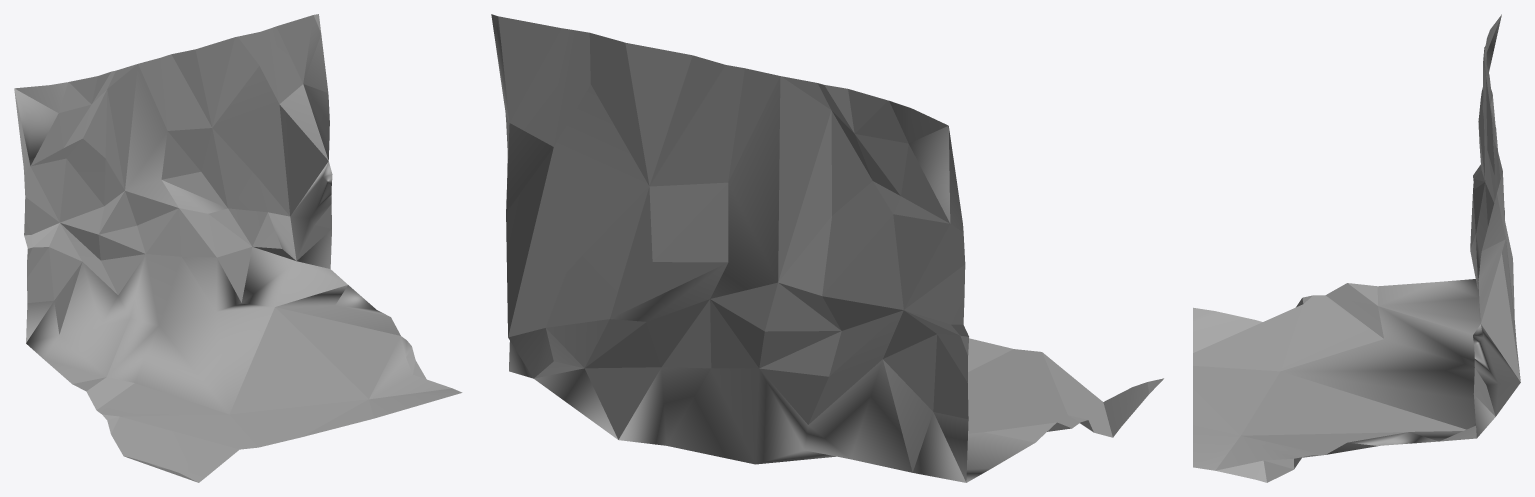
Rendered from WallFloor1.fbx.
3 views of the same model, side by side, from view 1: azimuth 30°, elevation 25°; view 2: azimuth 150°, elevation 25°; view 3: azimuth 270°, elevation 25° (orthographic). The views are drawn at different scales.
Parts seen in each view (by area): view 1: WallFloor1; view 2: WallFloor1; view 3: WallFloor1.
Boxes of the visible parts, left/top/right/bottom form: WallFloor1: left=14, top=14, right=462, bottom=482; WallFloor1: left=491, top=14, right=1163, bottom=482; WallFloor1: left=1193, top=14, right=1520, bottom=482.
Bounding box in the file's own units: 500 × 469 × 434.
